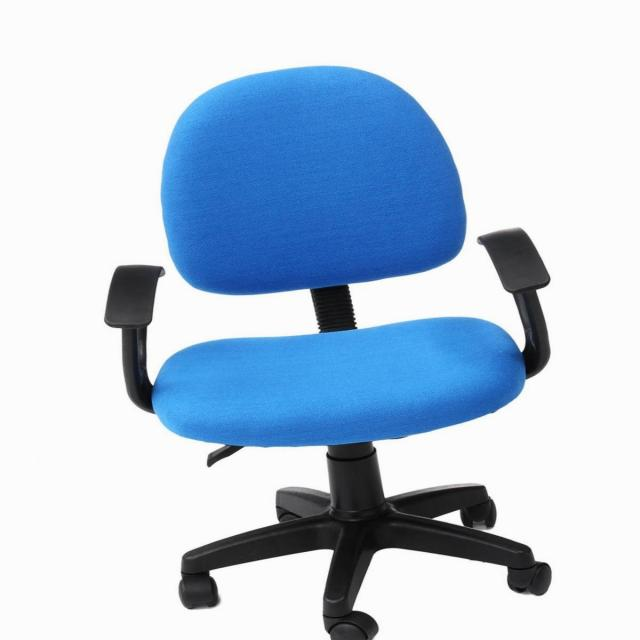Chair: (100, 62, 561, 640)
